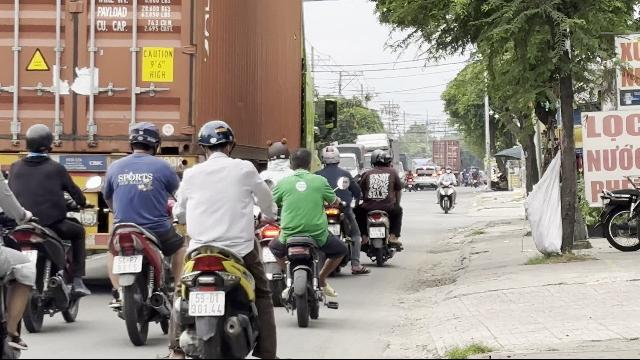helmet: (196, 119, 236, 159), (125, 121, 161, 155), (22, 124, 54, 156), (266, 142, 290, 166), (372, 150, 394, 170), (321, 145, 341, 165)
licenseplate: (190, 292, 224, 316), (114, 256, 142, 274), (370, 227, 384, 238)
motorcyclist: (168, 118, 288, 356), (97, 119, 185, 341), (0, 121, 90, 333), (265, 144, 351, 328), (354, 146, 406, 266)
nohelmet: (289, 148, 313, 172)
